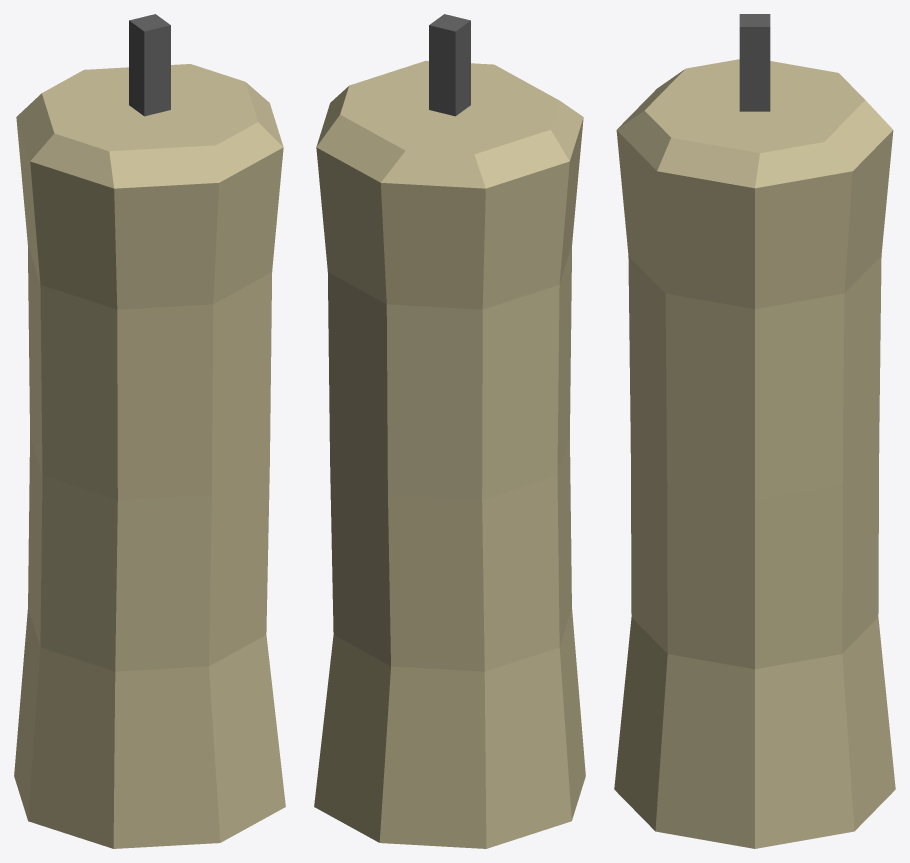
The model's file is swieca_4.fbx.
3 views of the same model, side by side, from view 1: azimuth 30°, elevation 25°; view 2: azimuth 150°, elevation 25°; view 3: azimuth 270°, elevation 25° (orthographic).
Parts seen in each view (by area): view 1: Cylinder.003; view 2: Cylinder.003; view 3: Cylinder.003.
Boxes of the visible parts, bbox=[...] form: Cylinder.003: bbox=[14, 14, 285, 848]; Cylinder.003: bbox=[314, 14, 585, 848]; Cylinder.003: bbox=[614, 14, 895, 848].
Size of the model in its own units: 120 by 362 by 120.
